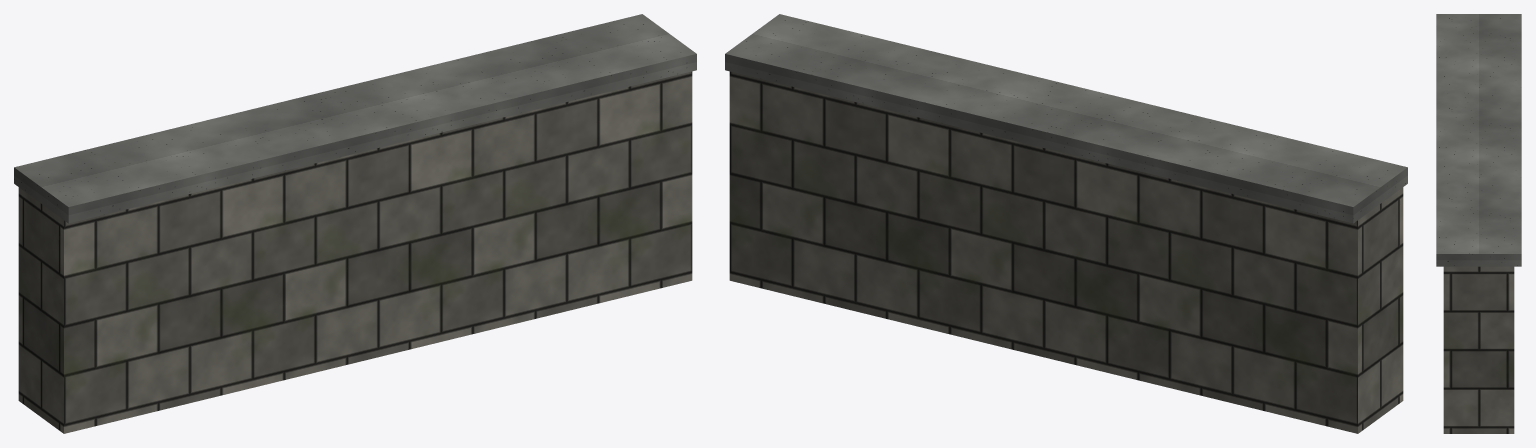
Rendered from stone_wall.glb.
3 views of the same model, side by side, from view 1: azimuth 30°, elevation 25°; view 2: azimuth 150°, elevation 25°; view 3: azimuth 270°, elevation 25° (orthographic). The views are drawn at different scales.
Parts seen in each view (by area): view 1: stone_wall; view 2: stone_wall; view 3: stone_wall.
Boxes of the visible parts, <box> form: stone_wall: <box>14,14,696,433</box>; stone_wall: <box>725,14,1407,433</box>; stone_wall: <box>1436,14,1521,433</box>.
Bounding box in the file's own units: 4 × 1.4 × 0.6.
Materials: 2 (2 with a texture image).
